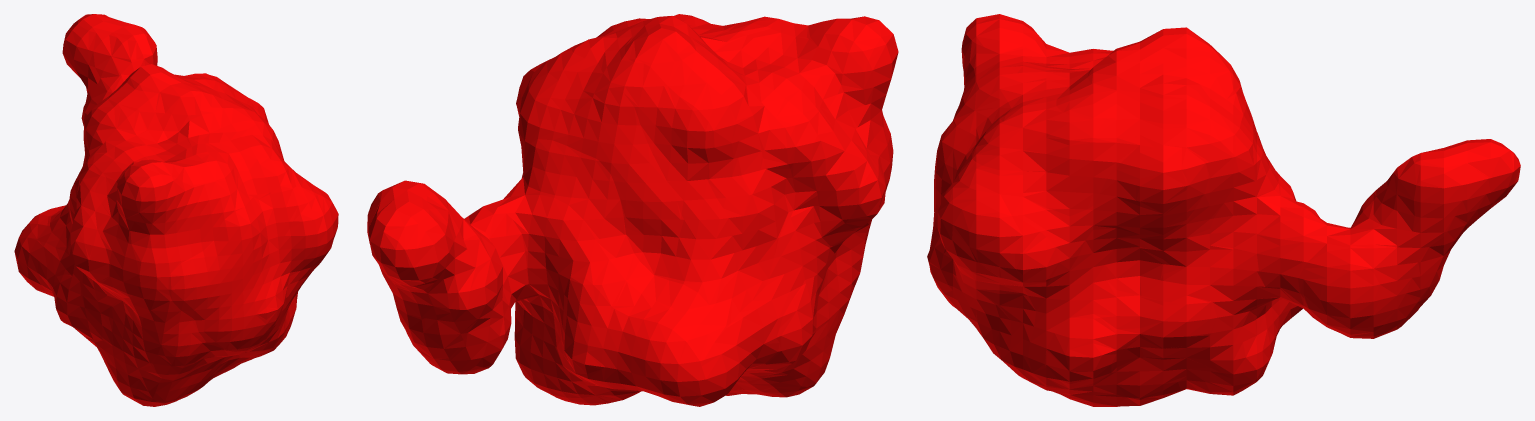
The model's file is hemB_coarse.dae.
3 renders of one model, left to right at view 1: azimuth 30°, elevation 25°; view 2: azimuth 150°, elevation 25°; view 3: azimuth 270°, elevation 25°, orthographic. The views are drawn at different scales.
Visible parts, largest first — view 1: hemB; view 2: hemB; view 3: hemB.
Part boxes in pixels (x1,y1,x2,y2): hemB: [14, 14, 338, 406]; hemB: [367, 14, 898, 406]; hemB: [927, 14, 1520, 406].
Bounding box in the file's own units: 45.78 × 52.88 × 78.63.
